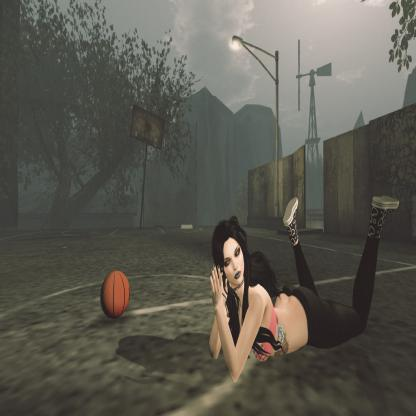Ball: (101, 270, 131, 321)
